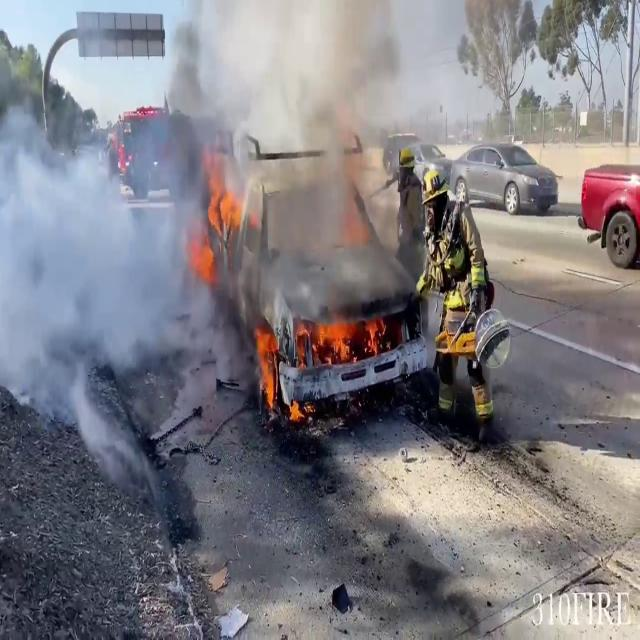Fire: (191, 158, 247, 286), (310, 302, 388, 378), (253, 318, 280, 416)
Smoke: (0, 13, 418, 386)
